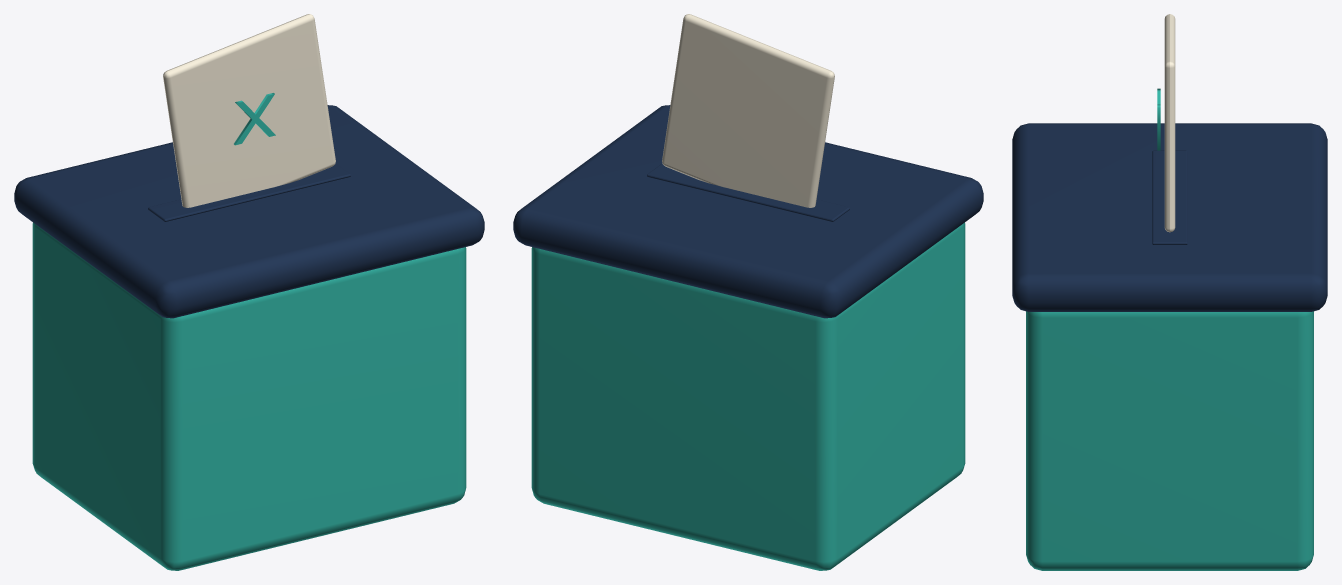
The model's file is EDU006.glb.
3 views of the same model, side by side, from view 1: azimuth 30°, elevation 25°; view 2: azimuth 150°, elevation 25°; view 3: azimuth 270°, elevation 25° (orthographic).
Parts seen in each view (by area): view 1: Box, Lid, Ballot_card, Slot, Vote_mark_GLB_mesh; view 2: Box, Lid, Ballot_card, Slot; view 3: Box, Lid, Slot, Ballot_card.
Part boxes in pixels (bbox=[...]): Box: bbox=[32, 222, 466, 570]; Lid: bbox=[14, 105, 484, 318]; Ballot_card: bbox=[163, 14, 335, 207]; Slot: bbox=[148, 163, 350, 221]; Vote_mark_GLB_mesh: bbox=[234, 93, 275, 145]; Box: bbox=[531, 222, 965, 570]; Lid: bbox=[513, 105, 983, 318]; Ballot_card: bbox=[662, 14, 834, 207]; Slot: bbox=[647, 163, 849, 221]; Box: bbox=[1026, 311, 1313, 570]; Lid: bbox=[1012, 123, 1327, 311]; Slot: bbox=[1152, 150, 1187, 244]; Ballot_card: bbox=[1164, 14, 1175, 232].
Bounding box in the file's own units: 1.4 × 1.89 × 1.15.
